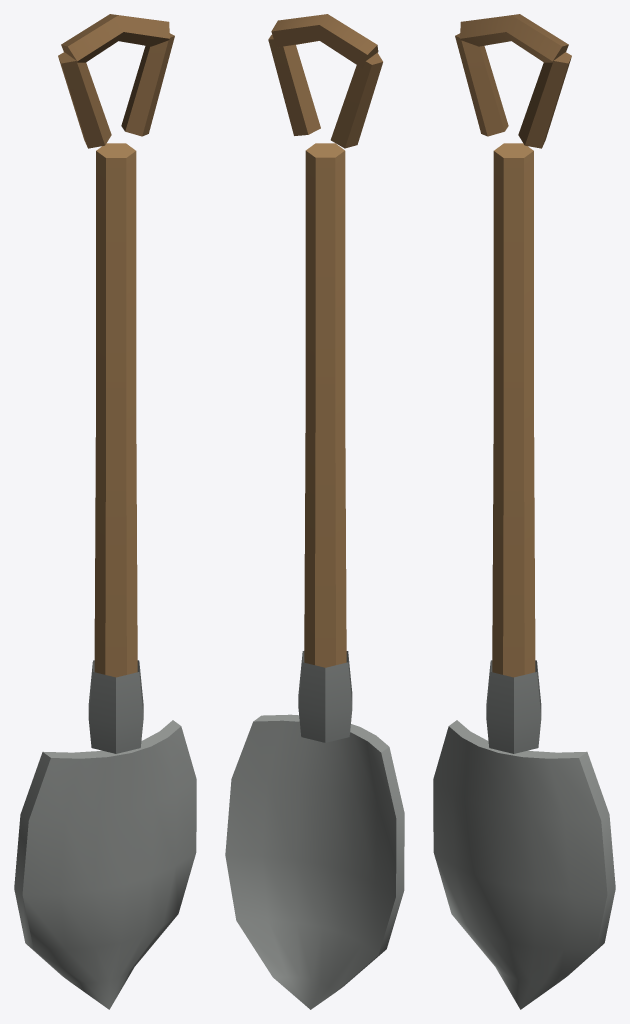
The model's file is shovel-1.glb.
3 views of the same model, side by side, from view 1: azimuth 30°, elevation 25°; view 2: azimuth 150°, elevation 25°; view 3: azimuth 330°, elevation 25° (orthographic).
Visible parts, largest first — view 1: shovel-1; view 2: shovel-1; view 3: shovel-1.
Part boxes in pixels (x1,y1,x2,y2): shovel-1: [14, 14, 196, 1009]; shovel-1: [225, 14, 404, 1009]; shovel-1: [433, 14, 615, 1009].
Bounding box in the file's own units: 0.12 × 0.6606 × 0.044.
